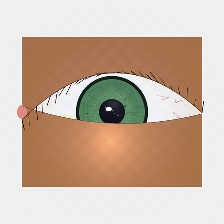pinguecula_lesion: (42, 104, 87, 140)
